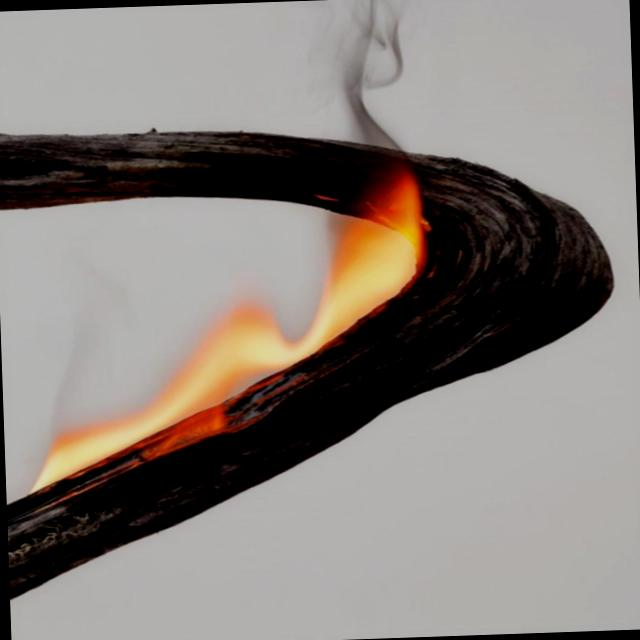fire: (38, 111, 442, 409)
